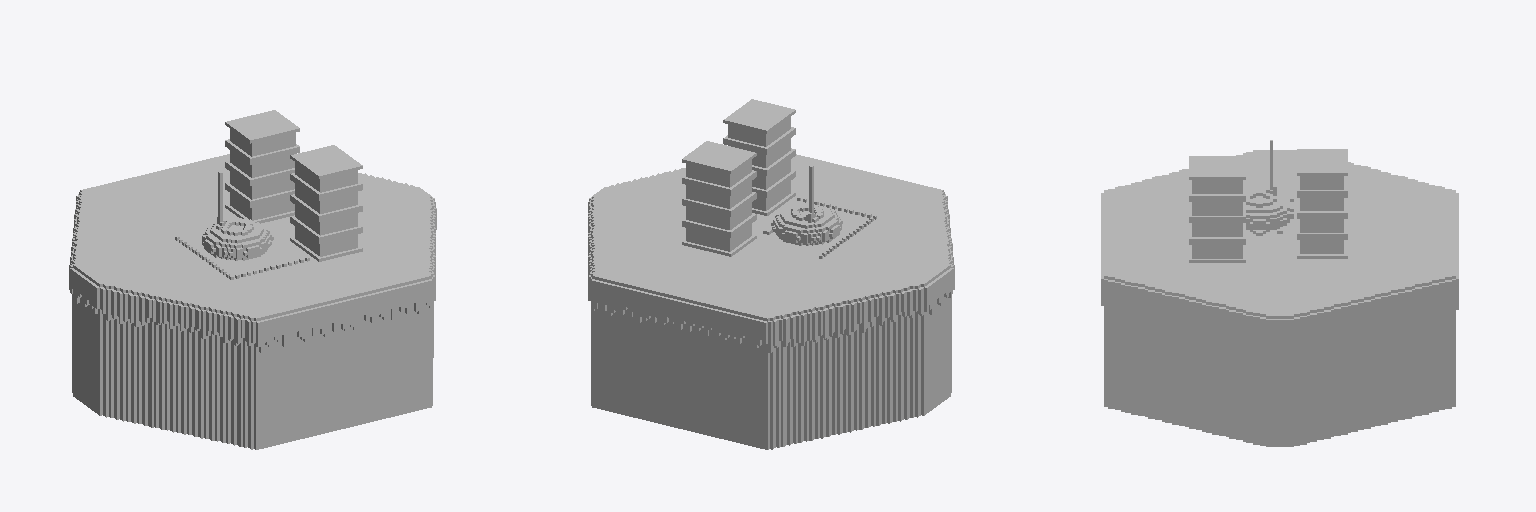
The model's file is main_nex_plain.obj.
3 renders of one model, left to right at view 1: azimuth 30°, elevation 25°; view 2: azimuth 150°, elevation 25°; view 3: azimuth 270°, elevation 25°, orthographic.
Visible parts, largest first — view 1: object 1; view 2: object 1; view 3: object 1.
Part boxes in pixels (left/top/right/bottom): object 1: left=69, top=110, right=436, bottom=449; object 1: left=588, top=99, right=954, bottom=449; object 1: left=1101, top=140, right=1458, bottom=446.
Bounding box in the file's own units: 11.8 × 7.1 × 10.6.